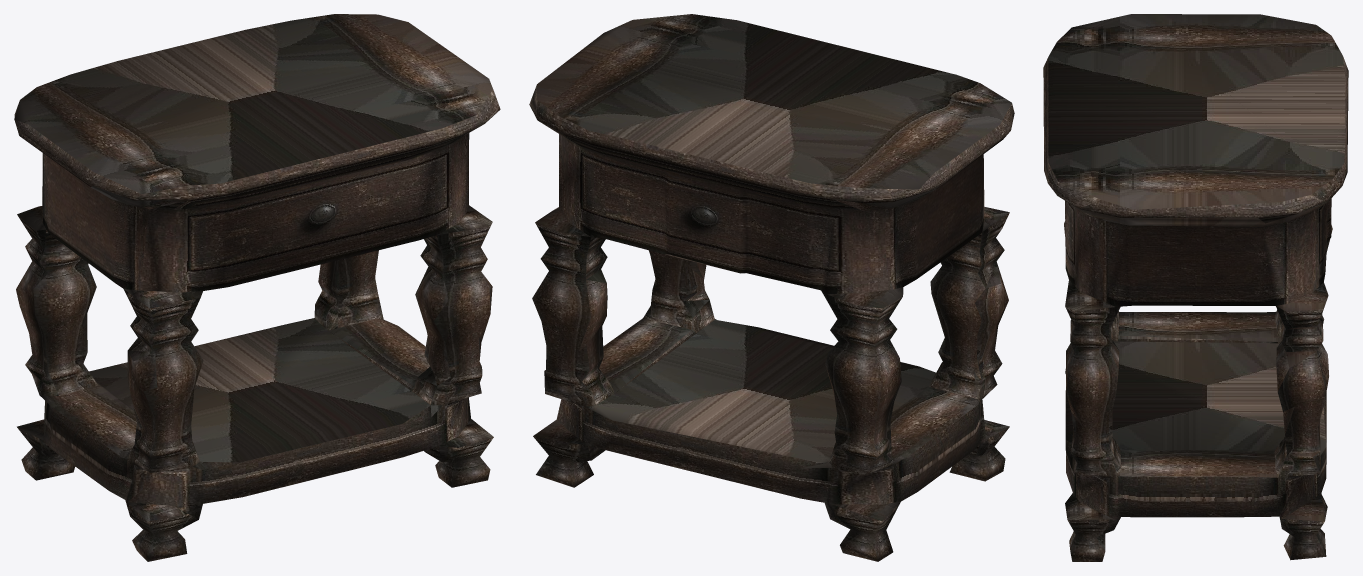
Rendered from table_high.glb.
The picture shows the model from 3 angles, left to right: view 1: azimuth 30°, elevation 25°; view 2: azimuth 150°, elevation 25°; view 3: azimuth 270°, elevation 25°; orthographic projection.
Visible parts, largest first — view 1: table_high; view 2: table_high; view 3: table_high.
Part boxes in pixels (x1,y1,x2,y2): table_high: [14, 14, 500, 561]; table_high: [529, 14, 1014, 561]; table_high: [1043, 14, 1348, 561].
Bounding box in the file's own units: 0.8929 × 0.7987 × 0.5895.
Materials: 1 (1 with a texture image).
